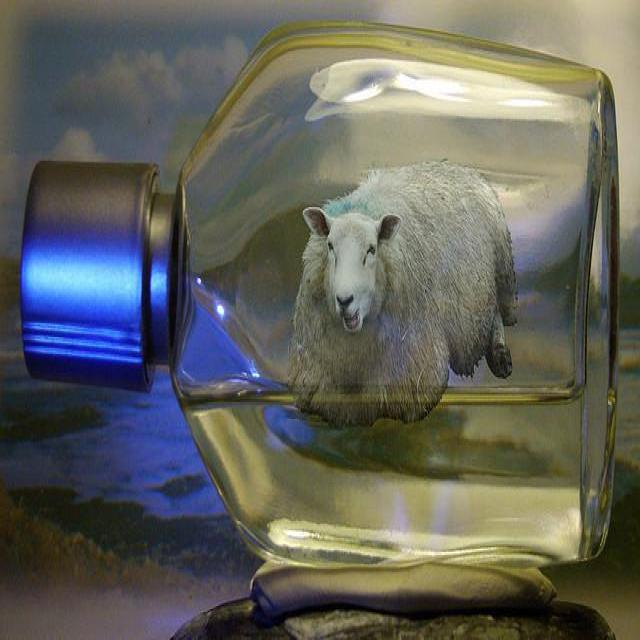Sheep: (285, 162, 518, 427)
